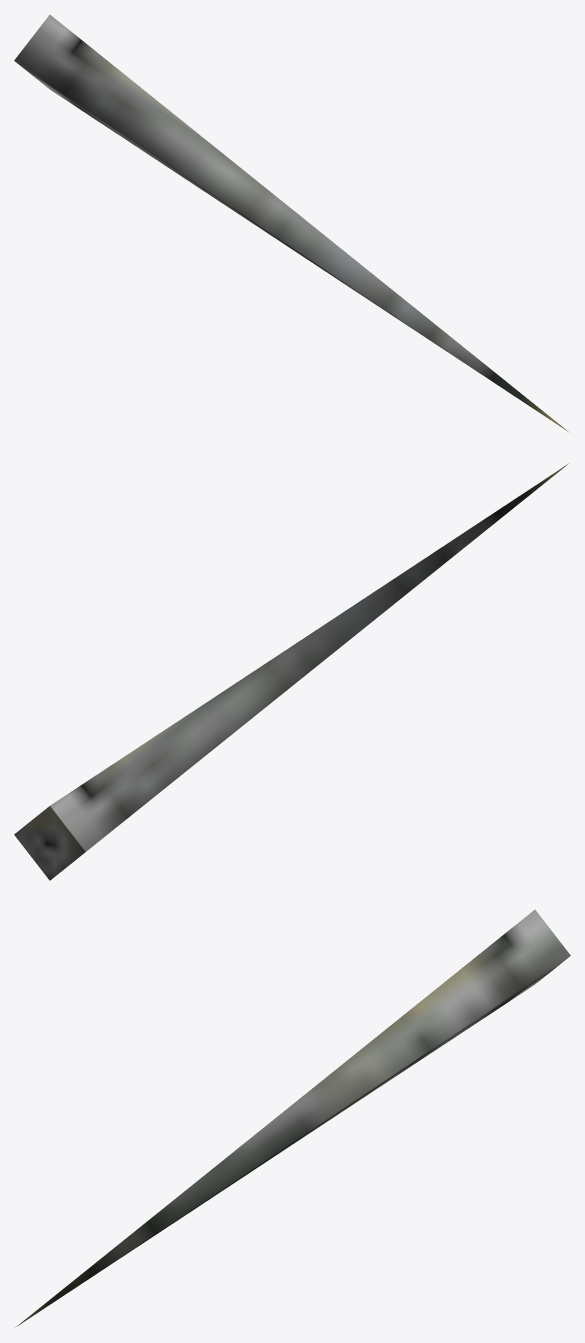
File: xwing_weapon2_pos_s01_l3.fbx
3 views of the same model, one above another, from view 1: azimuth 30°, elevation 25°; view 2: azimuth 150°, elevation 25°; view 3: azimuth 330°, elevation 25° (orthographic).
Parts seen in each view (by area): view 1: mesh_node; view 2: mesh_node; view 3: mesh_node.
Boxes of the visible parts, <box> form: mesh_node: <box>14,14,569,432</box>; mesh_node: <box>14,463,569,880</box>; mesh_node: <box>15,909,570,1327</box>.
Bounding box in the file's own units: 0.2565 × 0.2565 × 3.22.
1 material, 1 textured.
